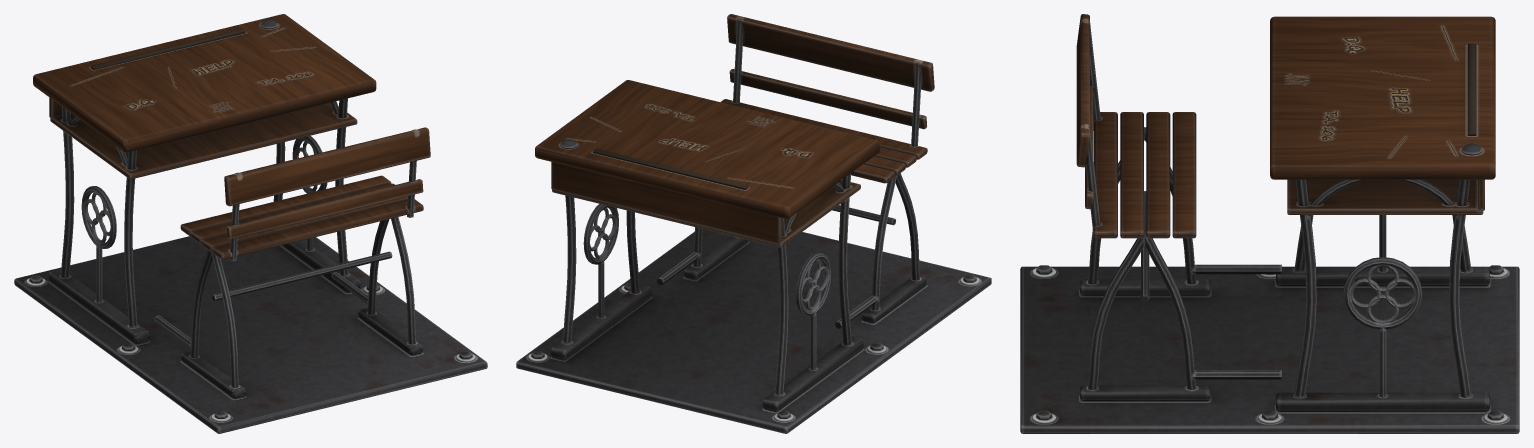
The model's file is DetentionDesk.fbx.
The picture shows the model from 3 angles, left to right: view 1: azimuth 30°, elevation 25°; view 2: azimuth 150°, elevation 25°; view 3: azimuth 270°, elevation 25°; orthographic projection. The views are drawn at different scales.
Visible parts, largest first — view 1: DetentionDesk; view 2: DetentionDesk; view 3: DetentionDesk.
Part boxes in pixels (box(x1,y1,x2,y2)): DetentionDesk: box(14, 14, 487, 433); DetentionDesk: box(516, 14, 991, 433); DetentionDesk: box(1020, 14, 1519, 433).
Bounding box in the file's own units: 320 × 261 × 420.
